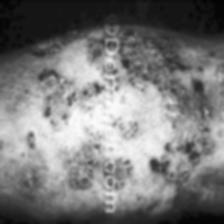Non-Cancerous Skin Condition: (123, 48, 224, 200), (0, 65, 94, 205)
